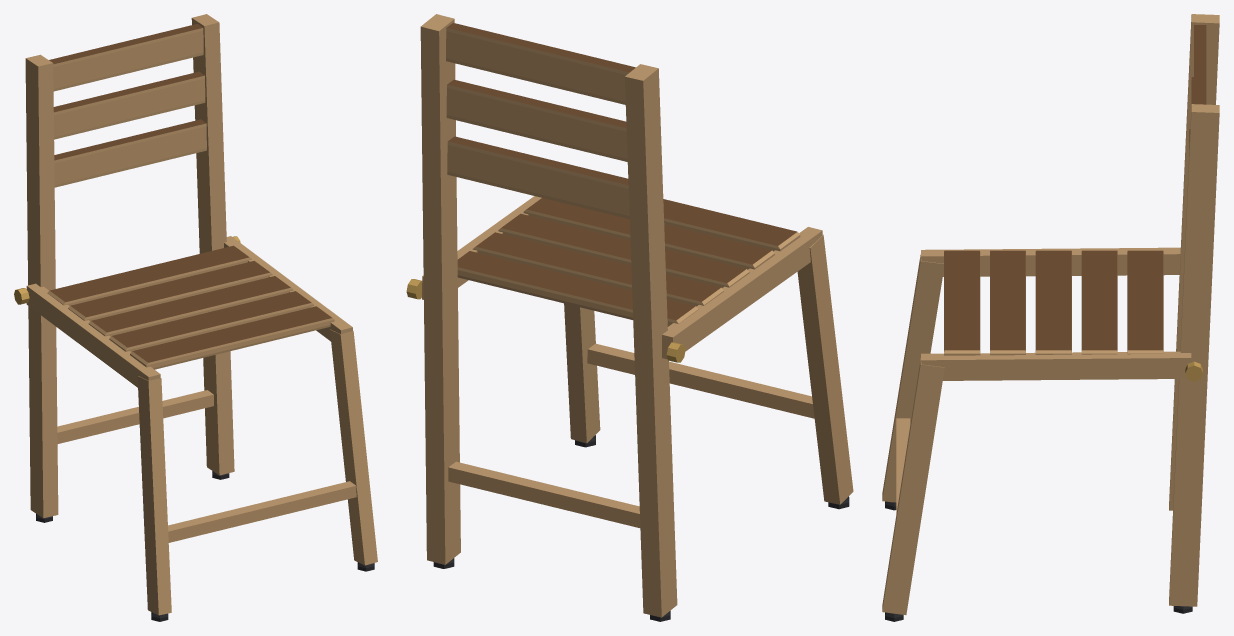
The model's file is FN_Chair_Folding.glb.
The picture shows the model from 3 angles, left to right: view 1: azimuth 30°, elevation 25°; view 2: azimuth 150°, elevation 25°; view 3: azimuth 270°, elevation 25°; orthographic projection. The views are drawn at different scales.
Parts seen in each view (by area): view 1: FN_Chair_Folding; view 2: FN_Chair_Folding; view 3: FN_Chair_Folding.
Part boxes in pixels (box(x1,y1,x2,y2)): FN_Chair_Folding: box(14, 14, 377, 621); FN_Chair_Folding: box(406, 14, 853, 621); FN_Chair_Folding: box(882, 14, 1219, 621).
Bounding box in the file's own units: 0.446 × 0.8591 × 0.5268.
1 material, 1 textured.
